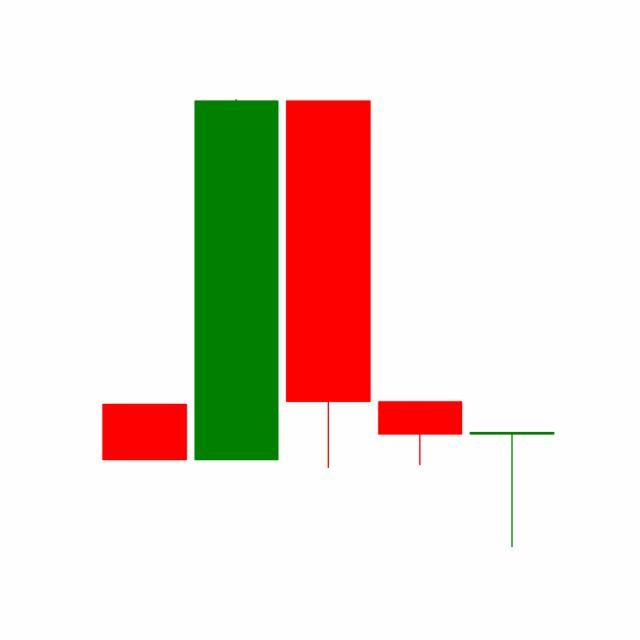Dragonfly Doji: (464, 430, 558, 549)
